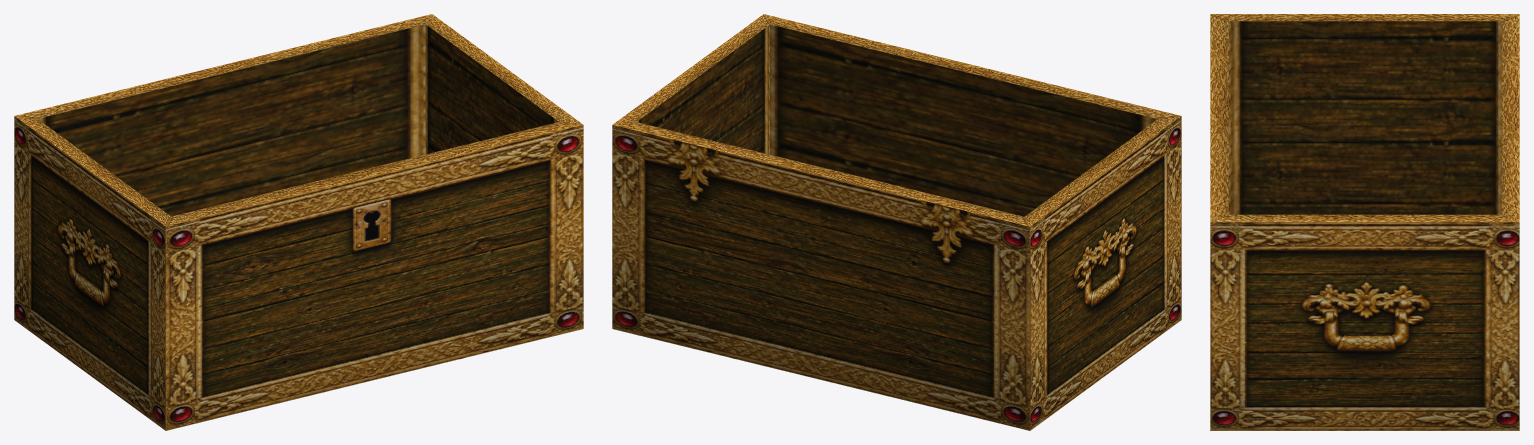
The model's file is mm9_deco_chest5.glb.
3 renders of one model, left to right at view 1: azimuth 30°, elevation 25°; view 2: azimuth 150°, elevation 25°; view 3: azimuth 270°, elevation 25°, orthographic. The views are drawn at different scales.
Parts seen in each view (by area): view 1: Chest5; view 2: Chest5; view 3: Chest5.
Boxes of the visible parts, x1,y1,x2,y2 form: Chest5: (14,14,583,430); Chest5: (612,14,1181,430); Chest5: (1210,14,1519,430).
Bounding box in the file's own units: 1 × 0.4675 × 0.6288.
1 material, 1 textured.
